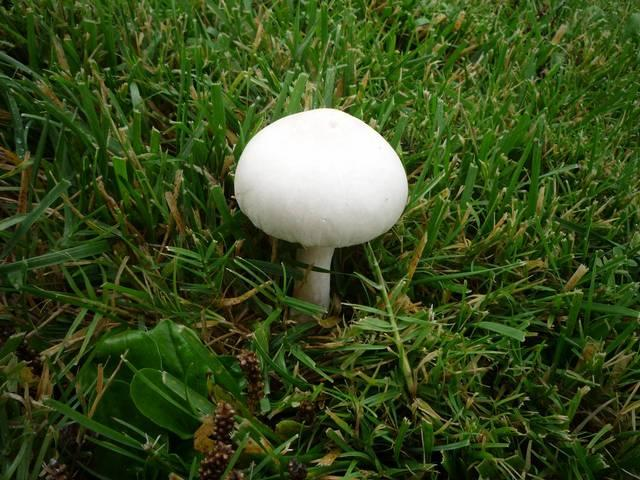poisonous_mushroom: (232, 106, 409, 323)
